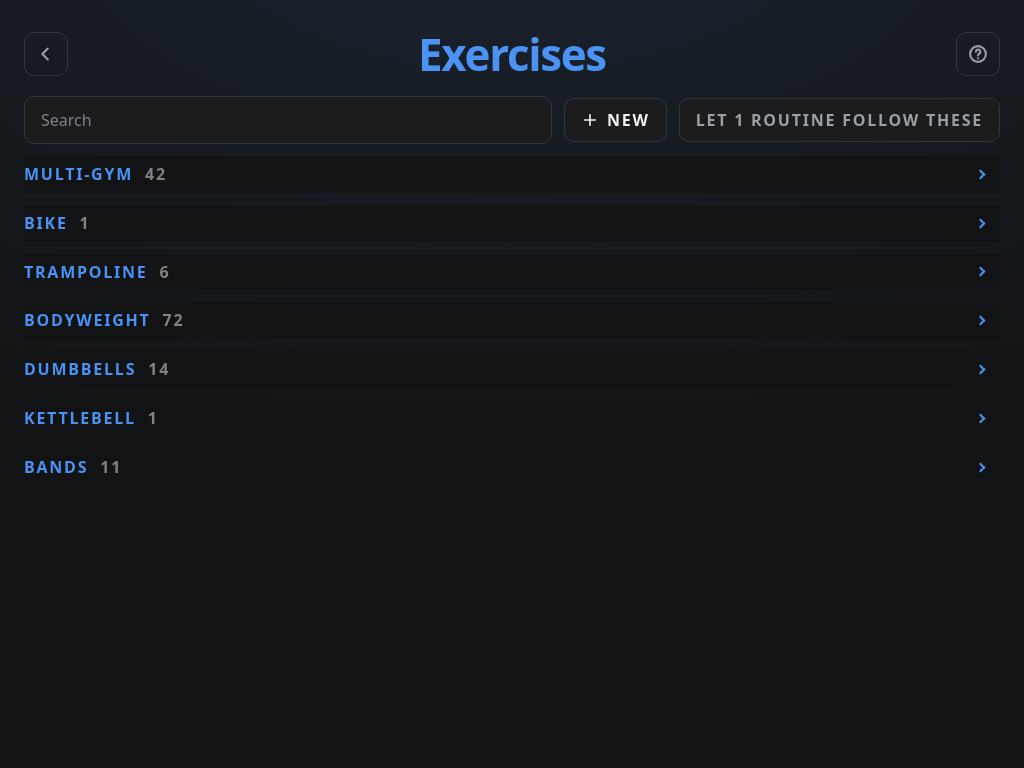
Test case: letting routines follow the page › says so when the routines could not be rewritten
The image size is (1024, 768).
Click the button "Let 1 routine follow these" at (839, 120), box [679,98,1000,142]
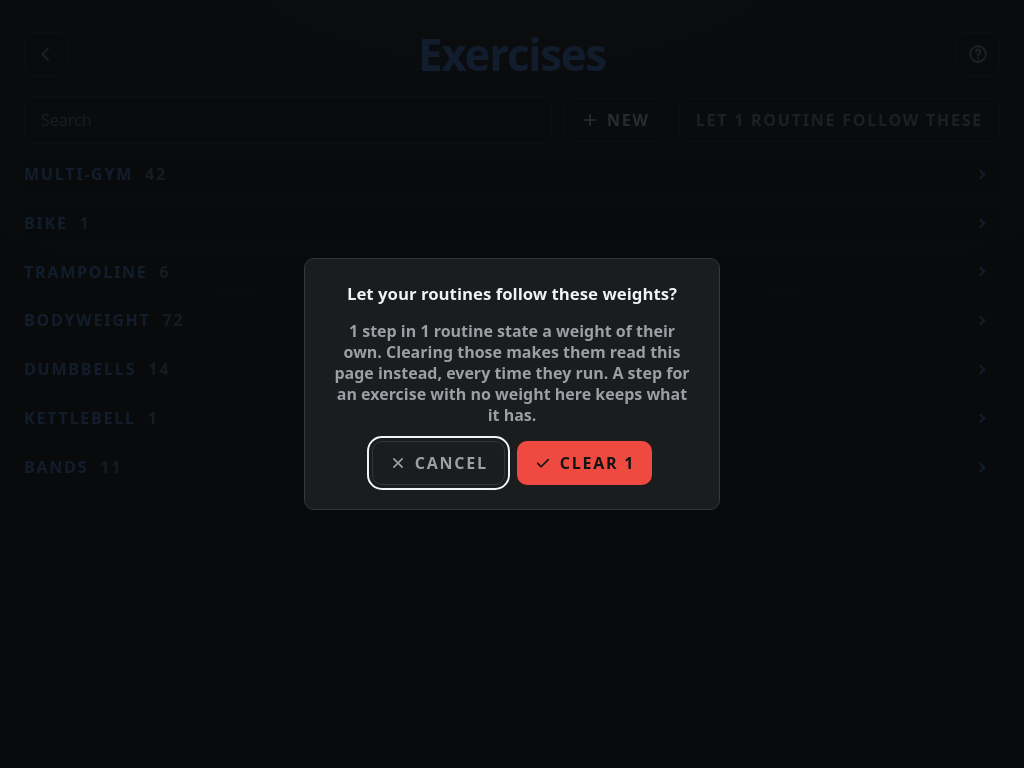
Click the button "Clear 1" at (584, 463), box [517,441,652,485]
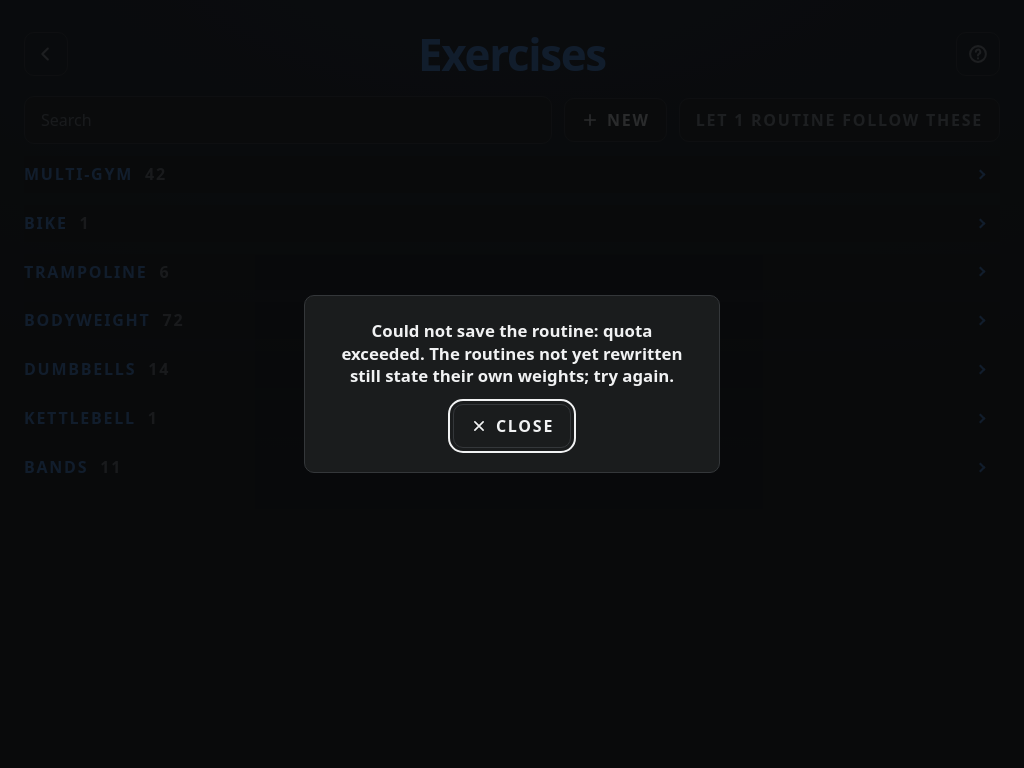
Expected: the text "quota exceeded" shows "still state their own weights", [341,319,682,387]
